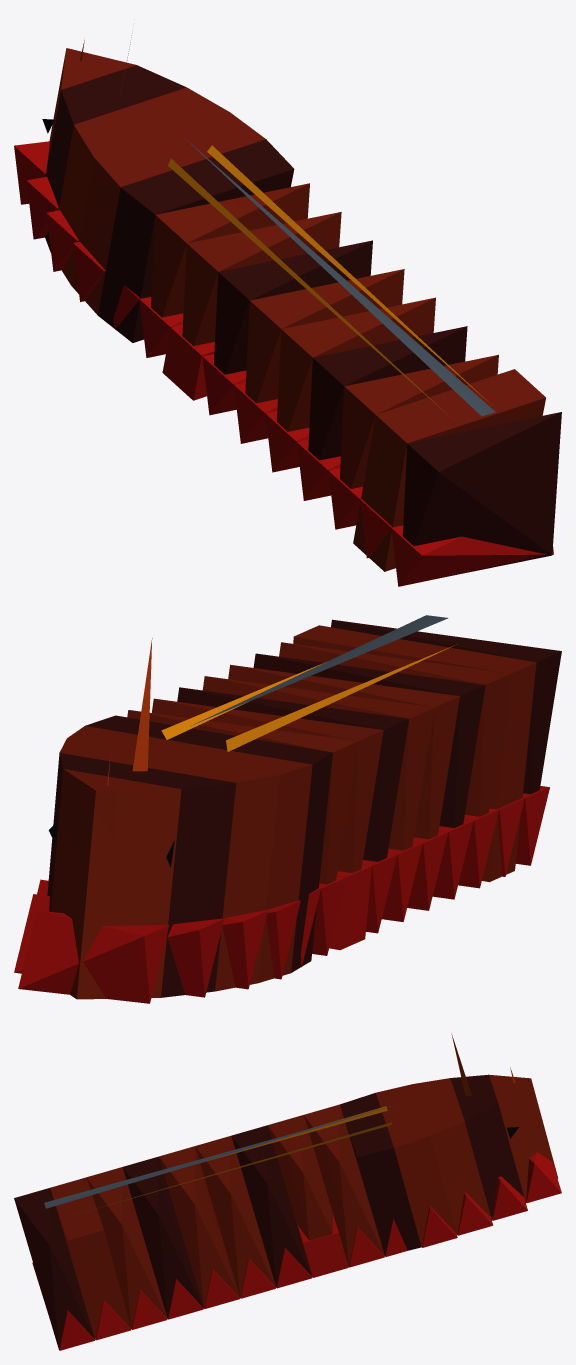
The model's file is tb_tanker_wreck.three-web-toon.lod50.glb.
3 renders of one model, top to bottom at view 1: azimuth 30°, elevation 25°; view 2: azimuth 150°, elevation 25°; view 3: azimuth 270°, elevation 25°, orthographic. The views are drawn at different scales.
Parts seen in each view (by area): view 1: tanker_body_lod; view 2: tanker_body_lod; view 3: tanker_body_lod.
Part boxes in pixels (bbox=[...]): tanker_body_lod: bbox=[14, 35, 561, 586]; tanker_body_lod: bbox=[14, 615, 561, 1003]; tanker_body_lod: bbox=[14, 1034, 561, 1350].
Bounding box in the file's own units: 22.47 × 35.94 × 66.45.
